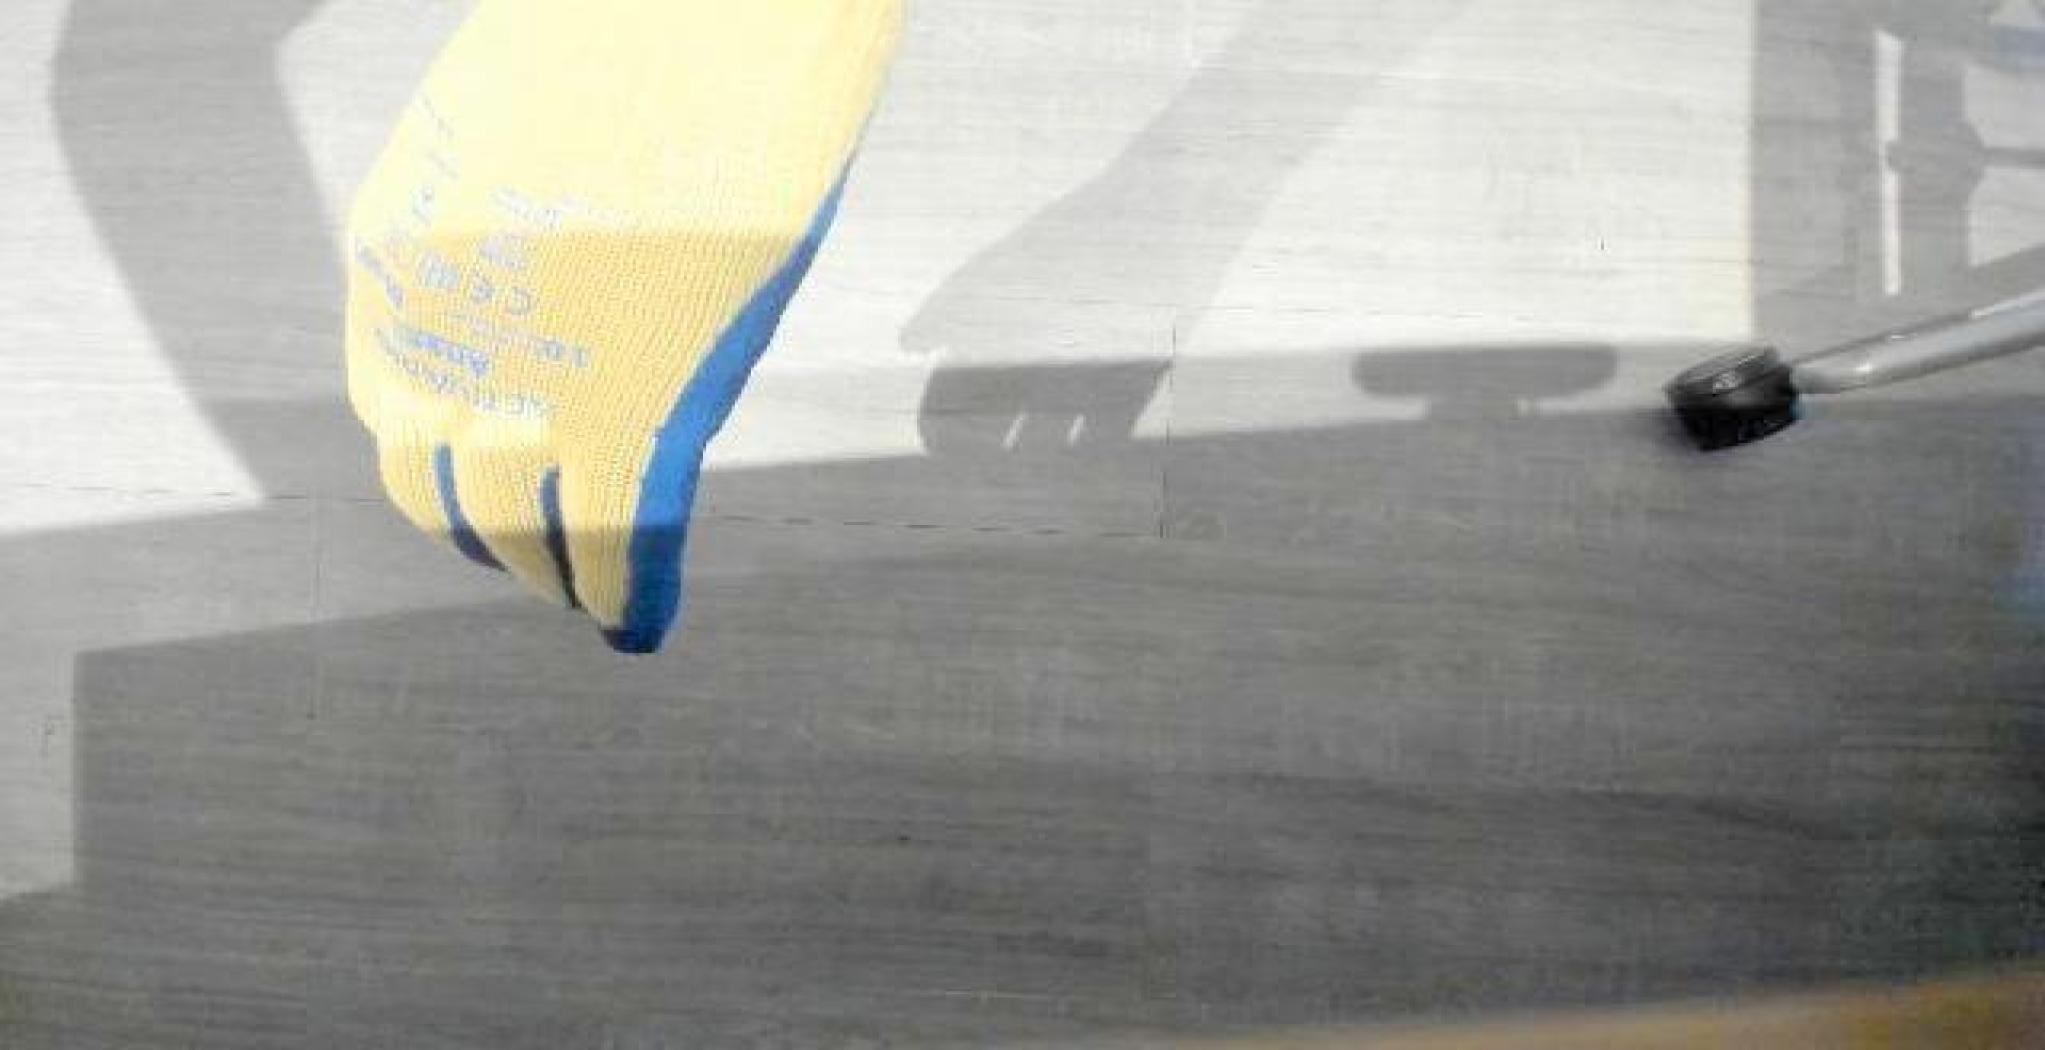gloved: (332, 0, 908, 655)
